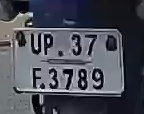3: (47, 66, 61, 91), (71, 33, 83, 58)
7: (60, 67, 75, 92), (85, 33, 99, 53)
8: (75, 69, 89, 91)
9: (92, 66, 108, 93)
F: (32, 65, 43, 91)
P: (41, 32, 56, 58)
U: (28, 34, 43, 58)
